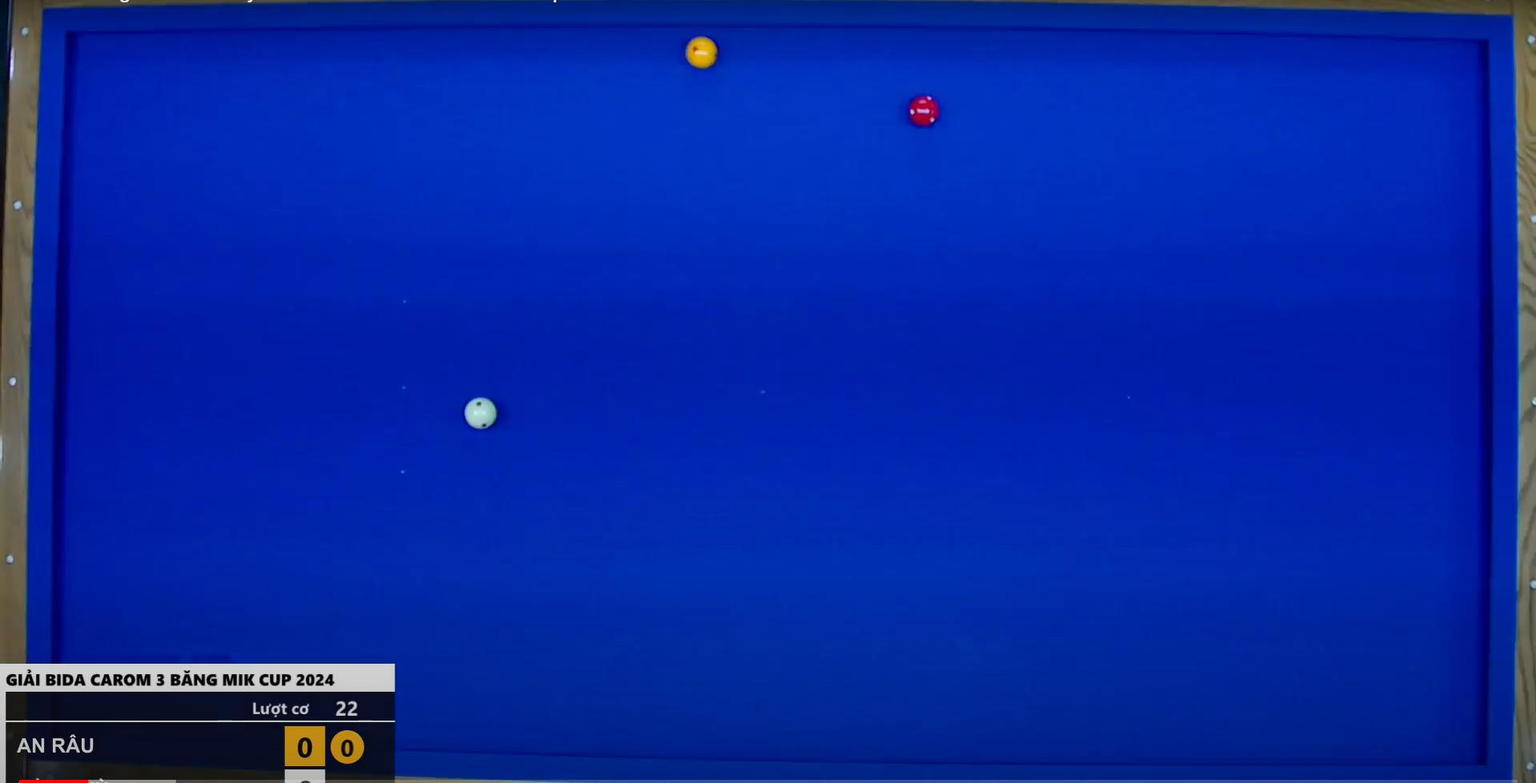red ball: (904, 87, 945, 134)
white ball: (460, 393, 505, 436)
yellow ball: (683, 32, 721, 74)
